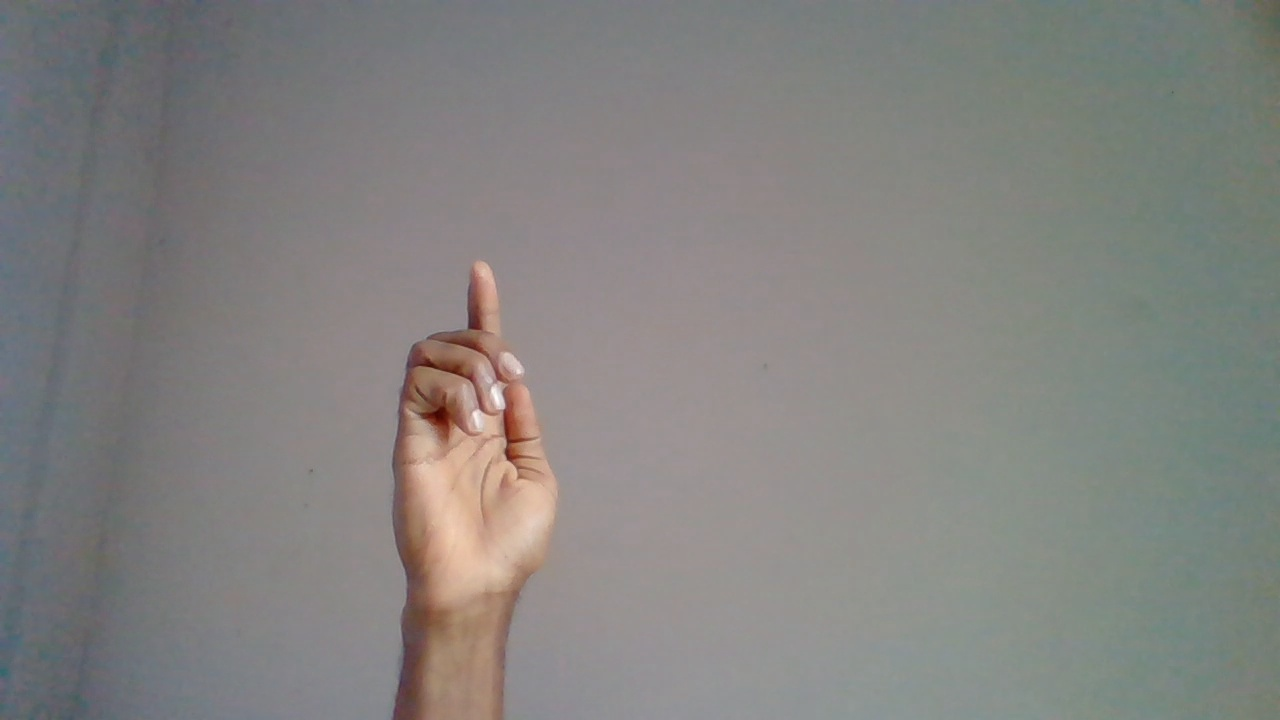qe: (391, 260, 566, 700)
